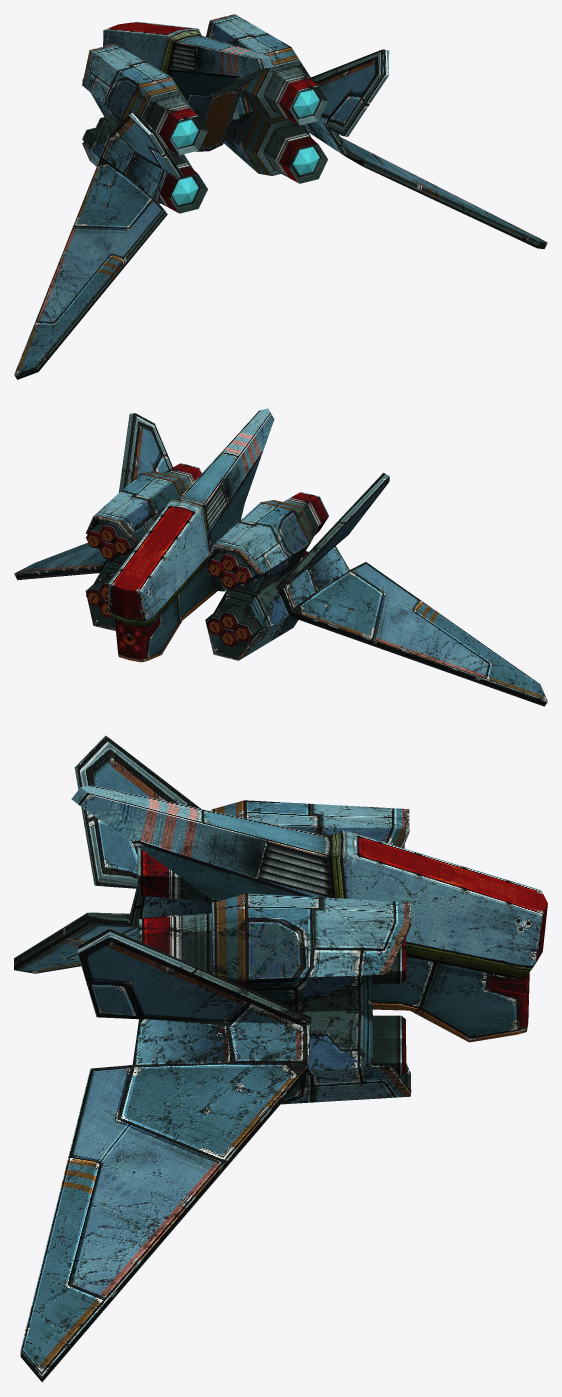
File: droneM.obj
The picture shows the model from 3 angles, top to bottom: view 1: azimuth 30°, elevation 25°; view 2: azimuth 150°, elevation 25°; view 3: azimuth 270°, elevation 25°; orthographic projection. The views are drawn at different scales.
Parts seen in each view (by area): view 1: Body2_Mesh.031; view 2: Body2_Mesh.031; view 3: Body2_Mesh.031.
Boxes of the visible parts, x1,y1,x2,y2 form: Body2_Mesh.031: [14, 14, 547, 379]; Body2_Mesh.031: [14, 408, 547, 706]; Body2_Mesh.031: [14, 735, 547, 1382].
Bounding box in the file's own units: 3.14 × 1.38 × 1.71.
1 material, 1 textured.
